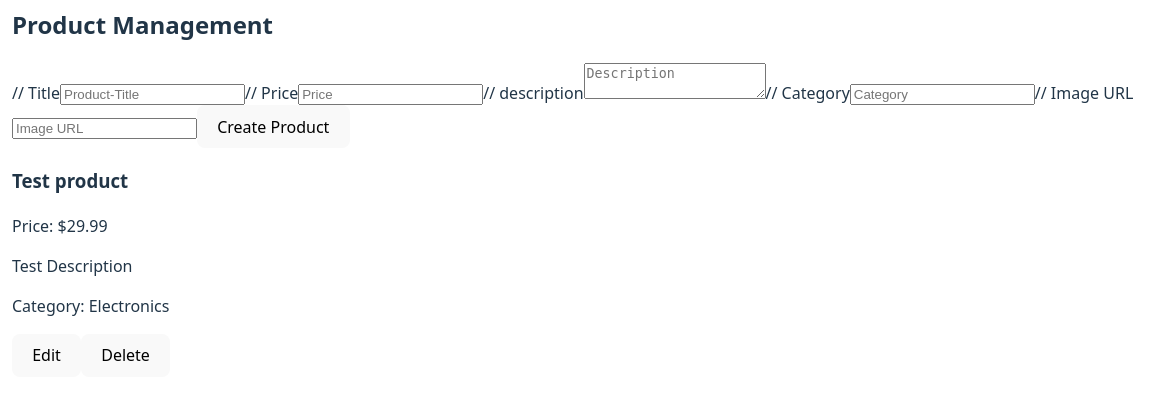
ProductManagement Component › switches to edit mode when edit button is clicked
Expected: the heading "Test product" is shown, [12,168,128,193]
Note: Click the edit button
Click the button "Edit": (46, 355) [12,334,81,377]
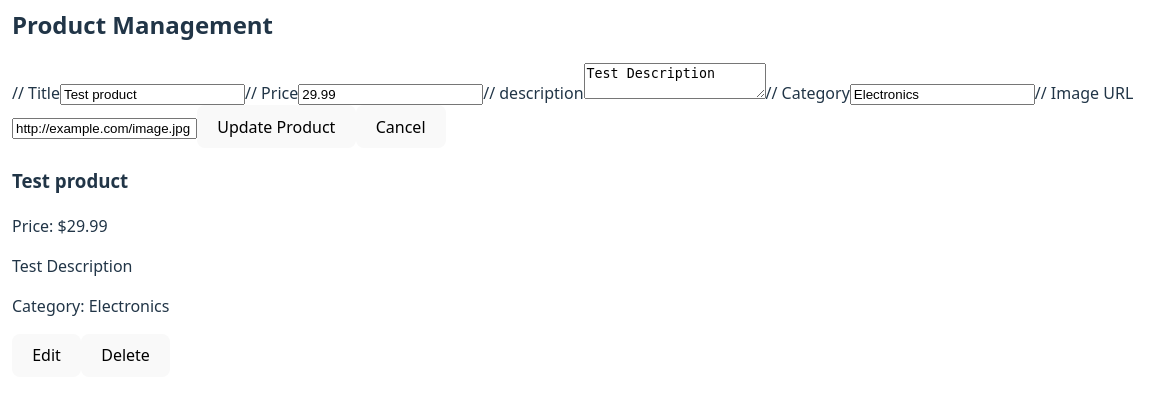
Expected: the 1st field showing "Test product" is shown, [60,84,245,105]
Expected: the number field showing "29.99" is shown, [298,84,483,105]
Expected: the button "Update Product" is shown, [197,105,356,148]
